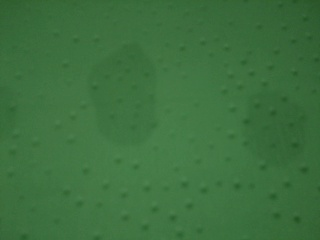Water_detected: (84, 51, 160, 131), (0, 97, 30, 137), (243, 100, 270, 143)
